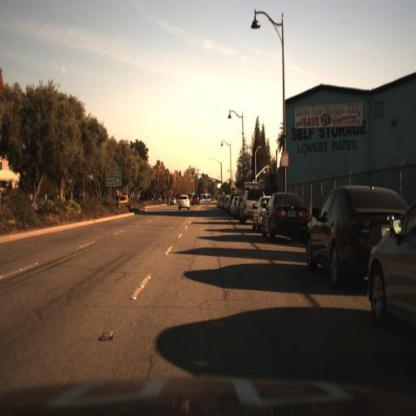car: (304, 185, 410, 286), (368, 203, 416, 336), (262, 190, 310, 244), (115, 189, 133, 208), (178, 194, 192, 214), (191, 193, 203, 210), (171, 193, 180, 211)
trafficLight-Green: (221, 185, 226, 197), (201, 172, 206, 183), (191, 172, 196, 182)
